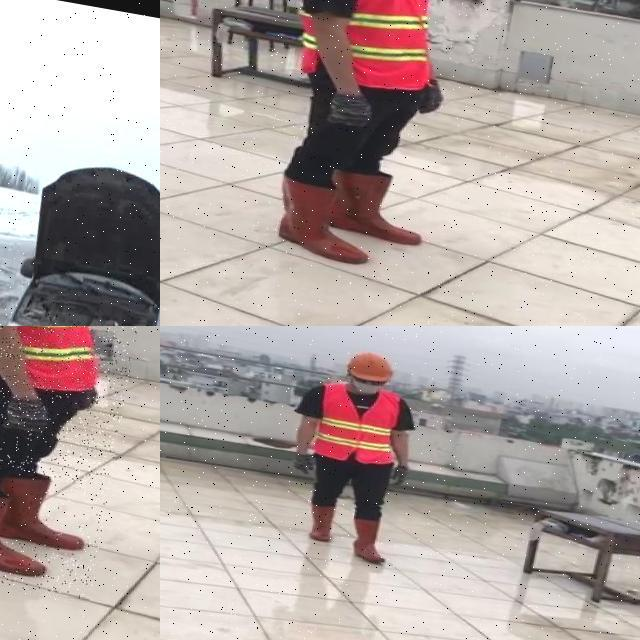boots: (265, 173, 382, 267), (328, 162, 434, 248), (0, 468, 95, 553), (0, 475, 58, 583), (346, 514, 391, 564), (301, 501, 337, 544)
helmet: (342, 347, 397, 385)
vest: (274, 0, 453, 96), (308, 379, 404, 468), (0, 326, 115, 395)
